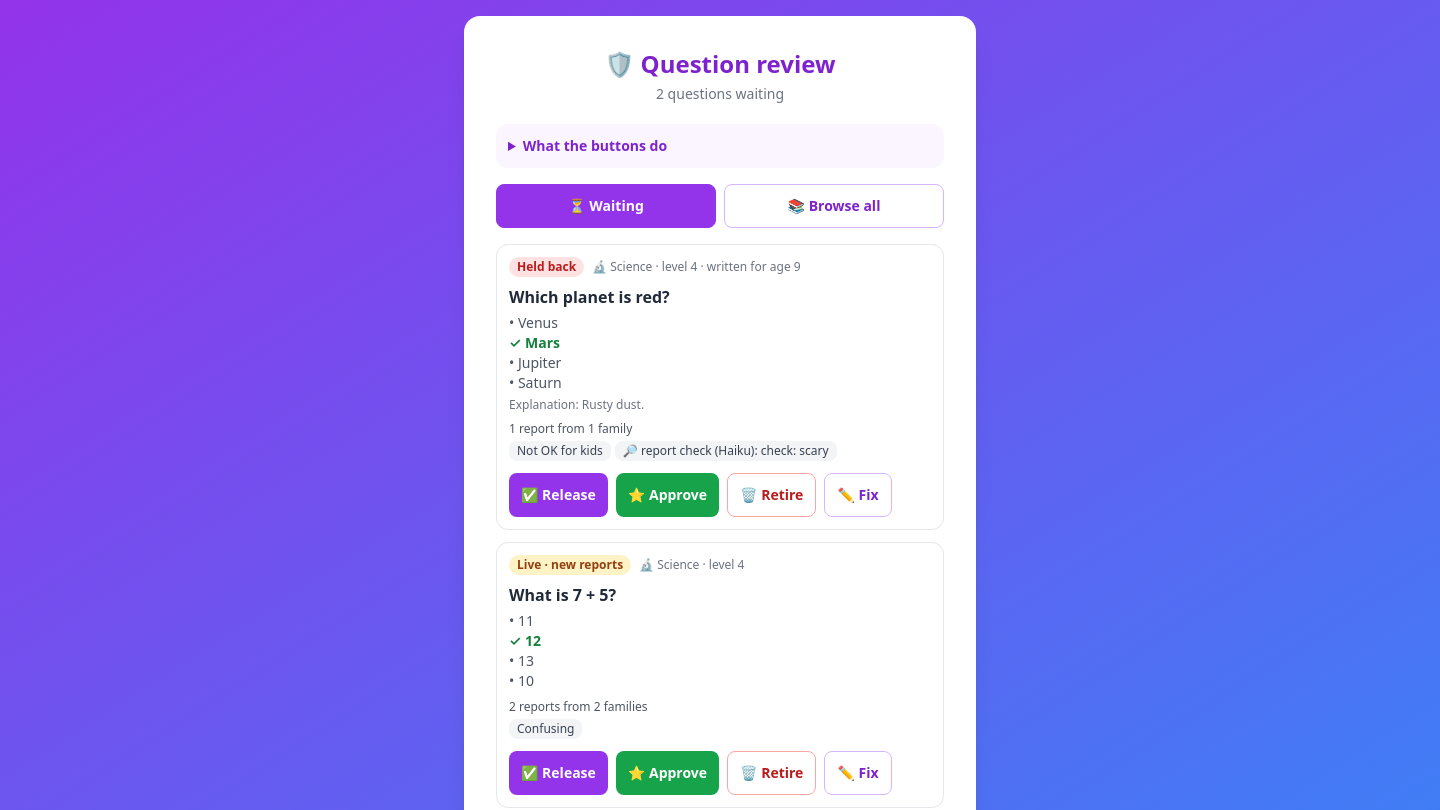
Scenario: QuestionReviewPage (#147) › after a decision the next card takes the focus; once none are left, the title
Expected: the text "2 questions waiting" is shown, [656,84,784,103]
What coordinates should you click on to do the following:
click the button "⭐ Approve" below "Held back"
I would click on:
 (668, 495)
Its box is [616,473,719,517].
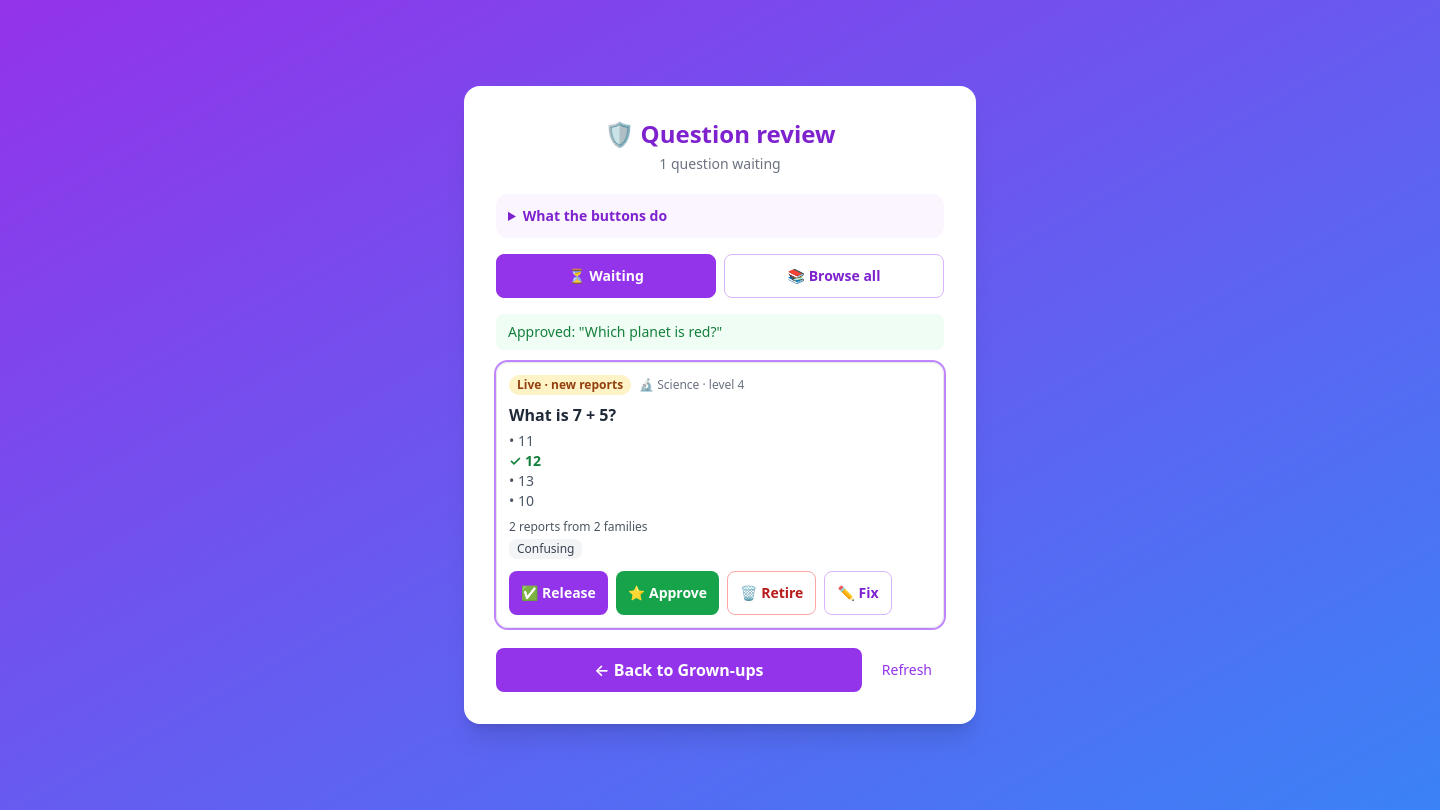
What coordinates should you click on to do the following:
click the button "✅ Release"
I would click on:
 (558, 593)
Its box is [509,571,608,615].
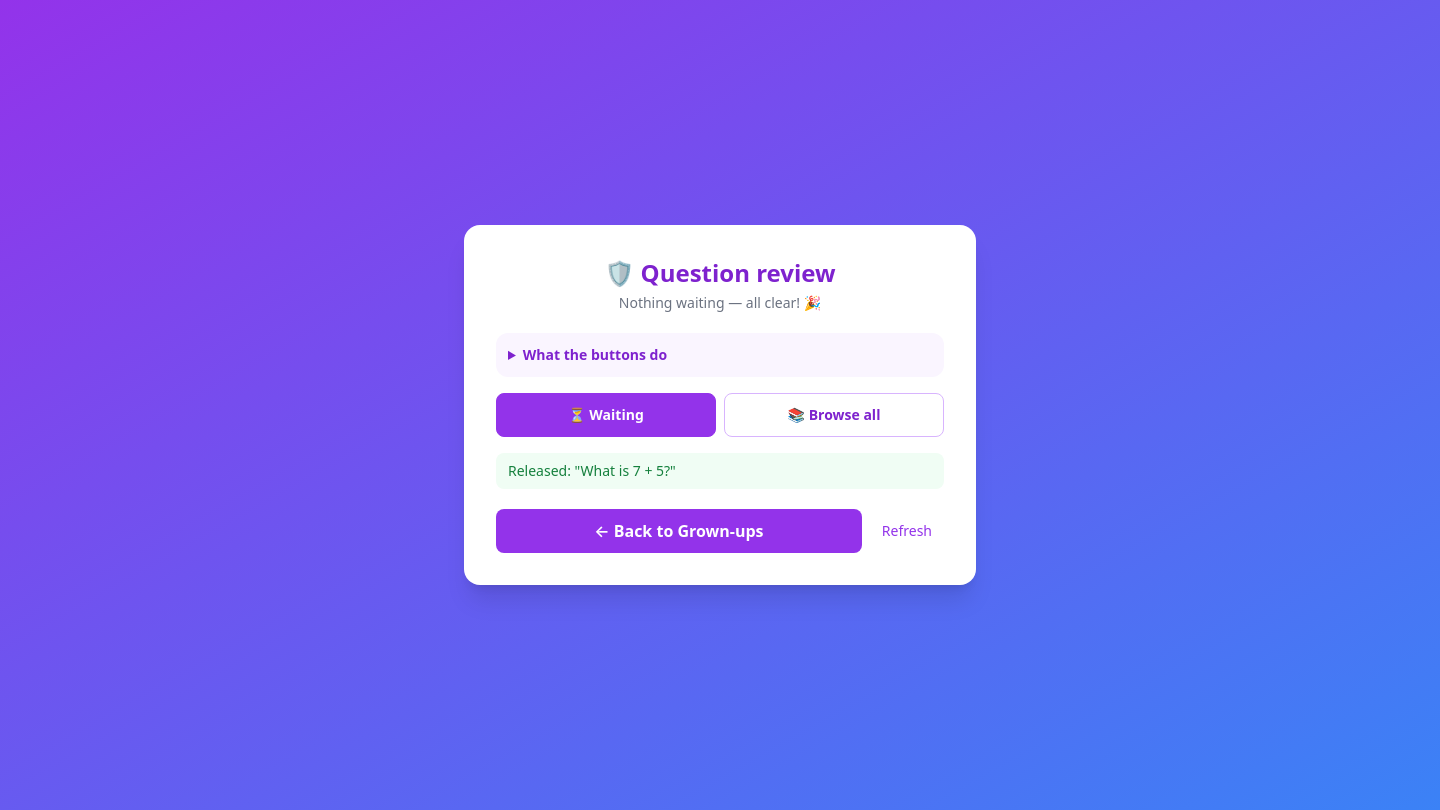
Expected: the text "Nothing waiting — all clear! 🎉" is shown, [619,293,821,312]
